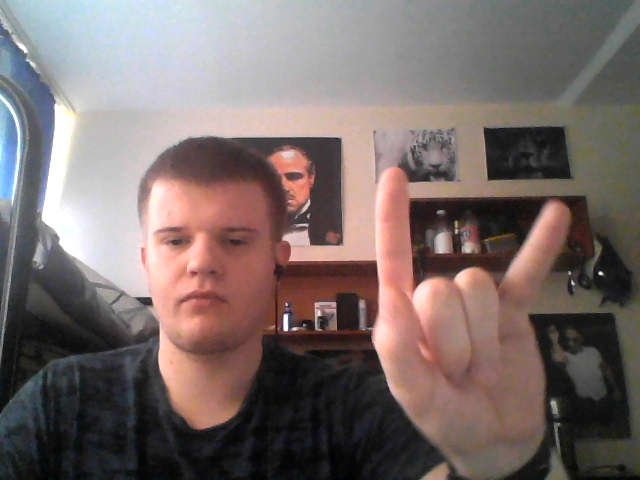iloveyou: (354, 163, 573, 447)
